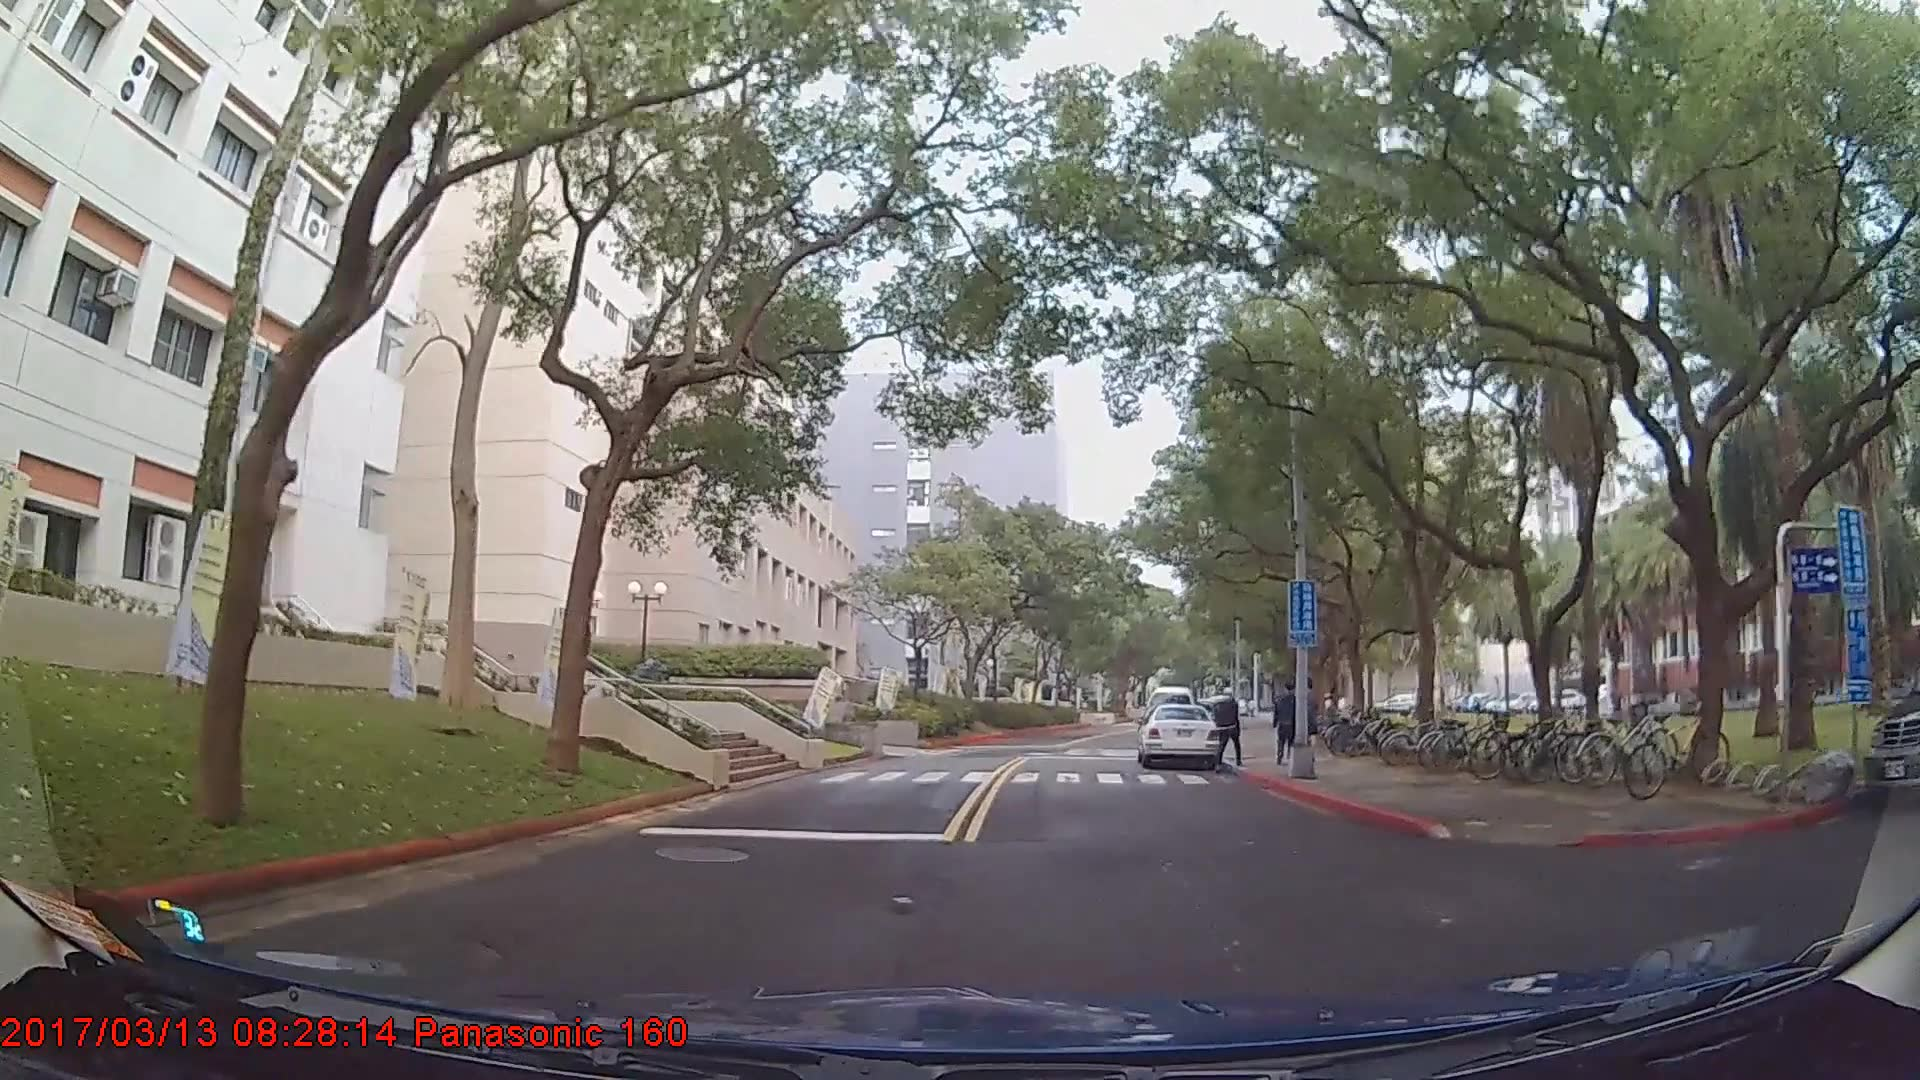pedestrian: (1269, 683, 1305, 768), (1216, 679, 1244, 761)
vehicle: (1134, 701, 1224, 768)
